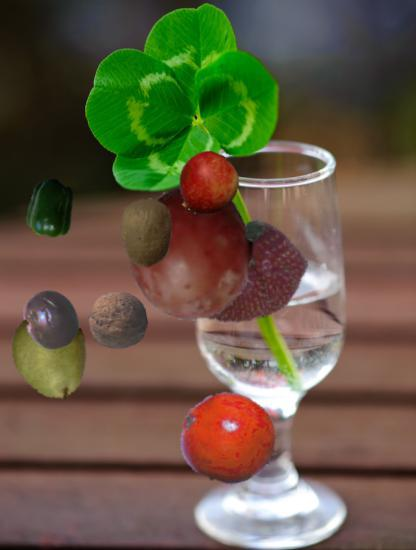Grape: (124, 184, 261, 321)
Kiwi: (112, 198, 181, 267)
Nectarine: (176, 152, 240, 216)
Passion: (20, 288, 83, 351)
Pear: (5, 309, 100, 404)
Pepper: (23, 180, 81, 238)
Pomegranate: (179, 389, 281, 491)
Strawberry: (172, 202, 308, 338)
Walnut: (87, 290, 148, 351)
